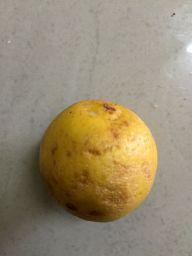lemon: (33, 97, 160, 223)
